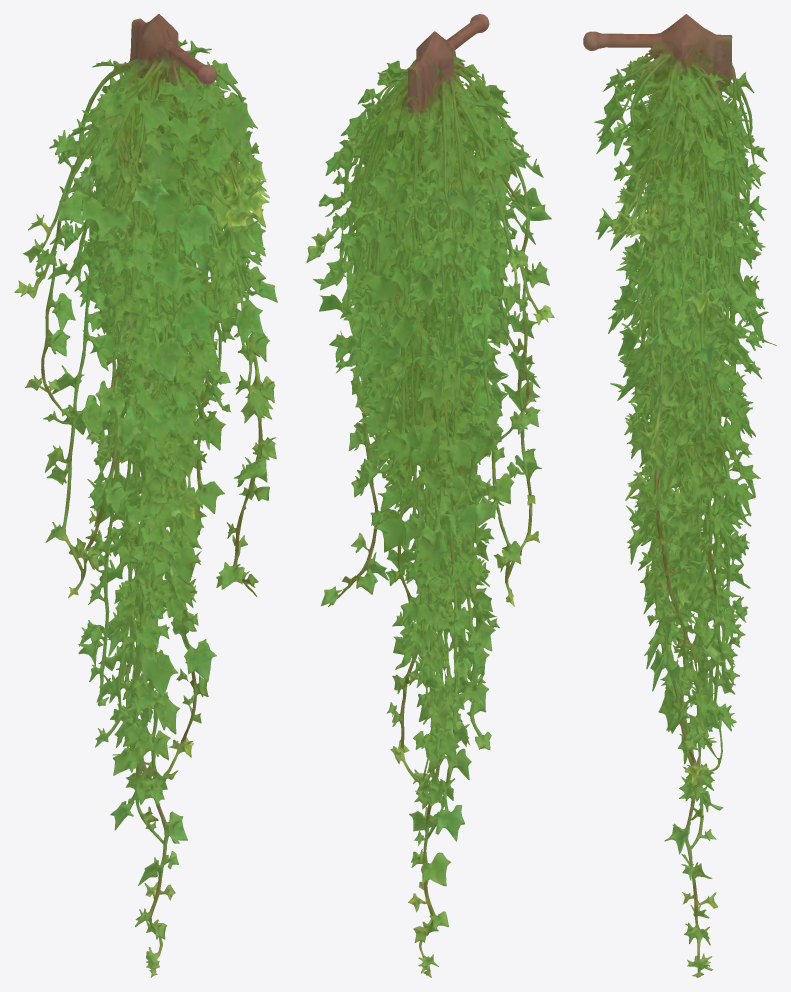
Rendered from Meshy_AI_vine_cluster_a_0823020940_image-to-3d-texture.glb.
3 views of the same model, side by side, from view 1: azimuth 30°, elevation 25°; view 2: azimuth 150°, elevation 25°; view 3: azimuth 270°, elevation 25° (orthographic). The views are drawn at different scales.
Bounding box in the file's own units: 0.5075 × 1.9 × 0.346.
1 material, 1 textured.
